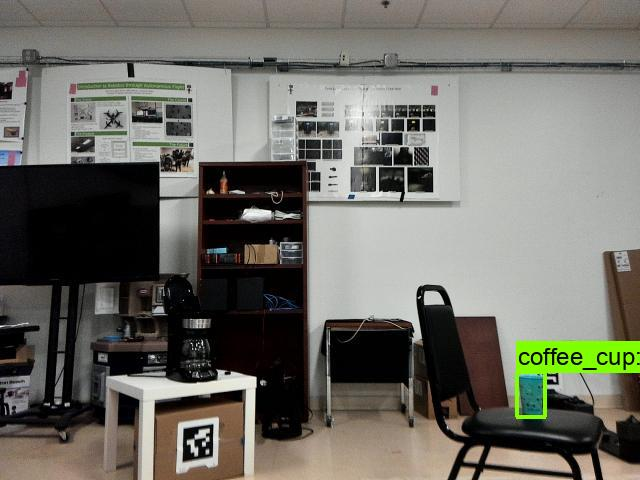coffee_cup: (516, 373, 546, 417)
